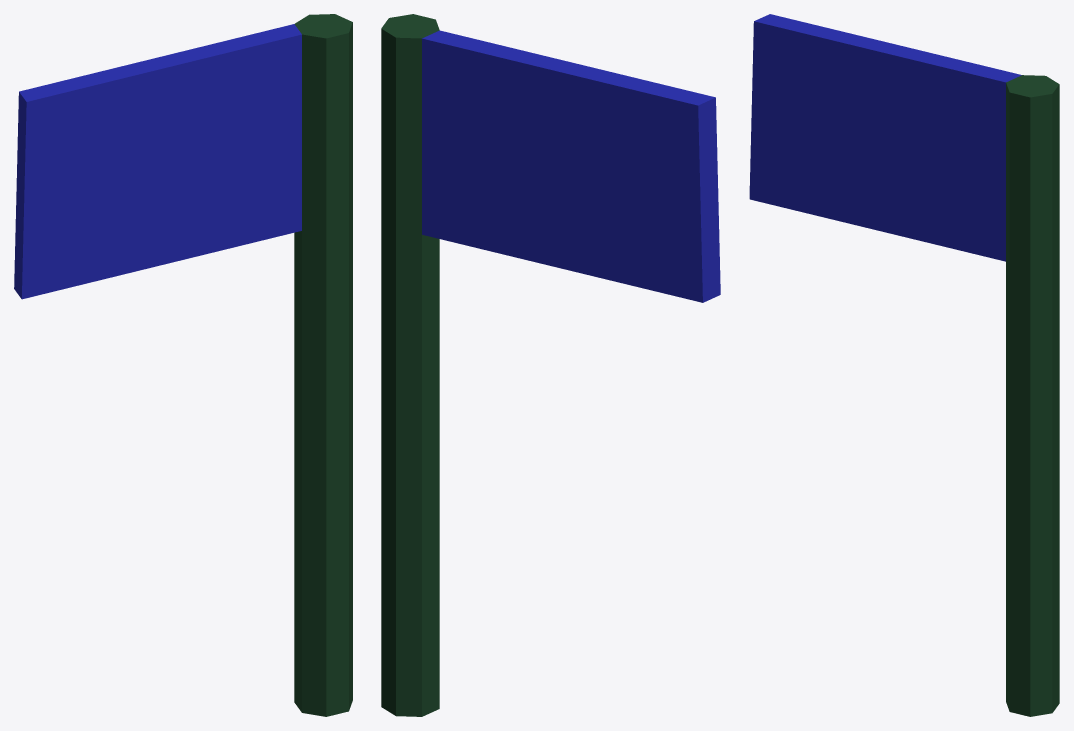
File: rally_flag_V1.fbx
3 views of the same model, side by side, from view 1: azimuth 30°, elevation 25°; view 2: azimuth 150°, elevation 25°; view 3: azimuth 330°, elevation 25° (orthographic). The views are drawn at different scales.
Parts seen in each view (by area): view 1: Cylinder; view 2: Cylinder; view 3: Cylinder.
Part boxes in pixels (<box>): Cylinder: <box>14,14,352,716</box>; Cylinder: <box>381,14,720,716</box>; Cylinder: <box>749,14,1059,716</box>.
Size of the model in its own units: 885 by 1731 by 132.
